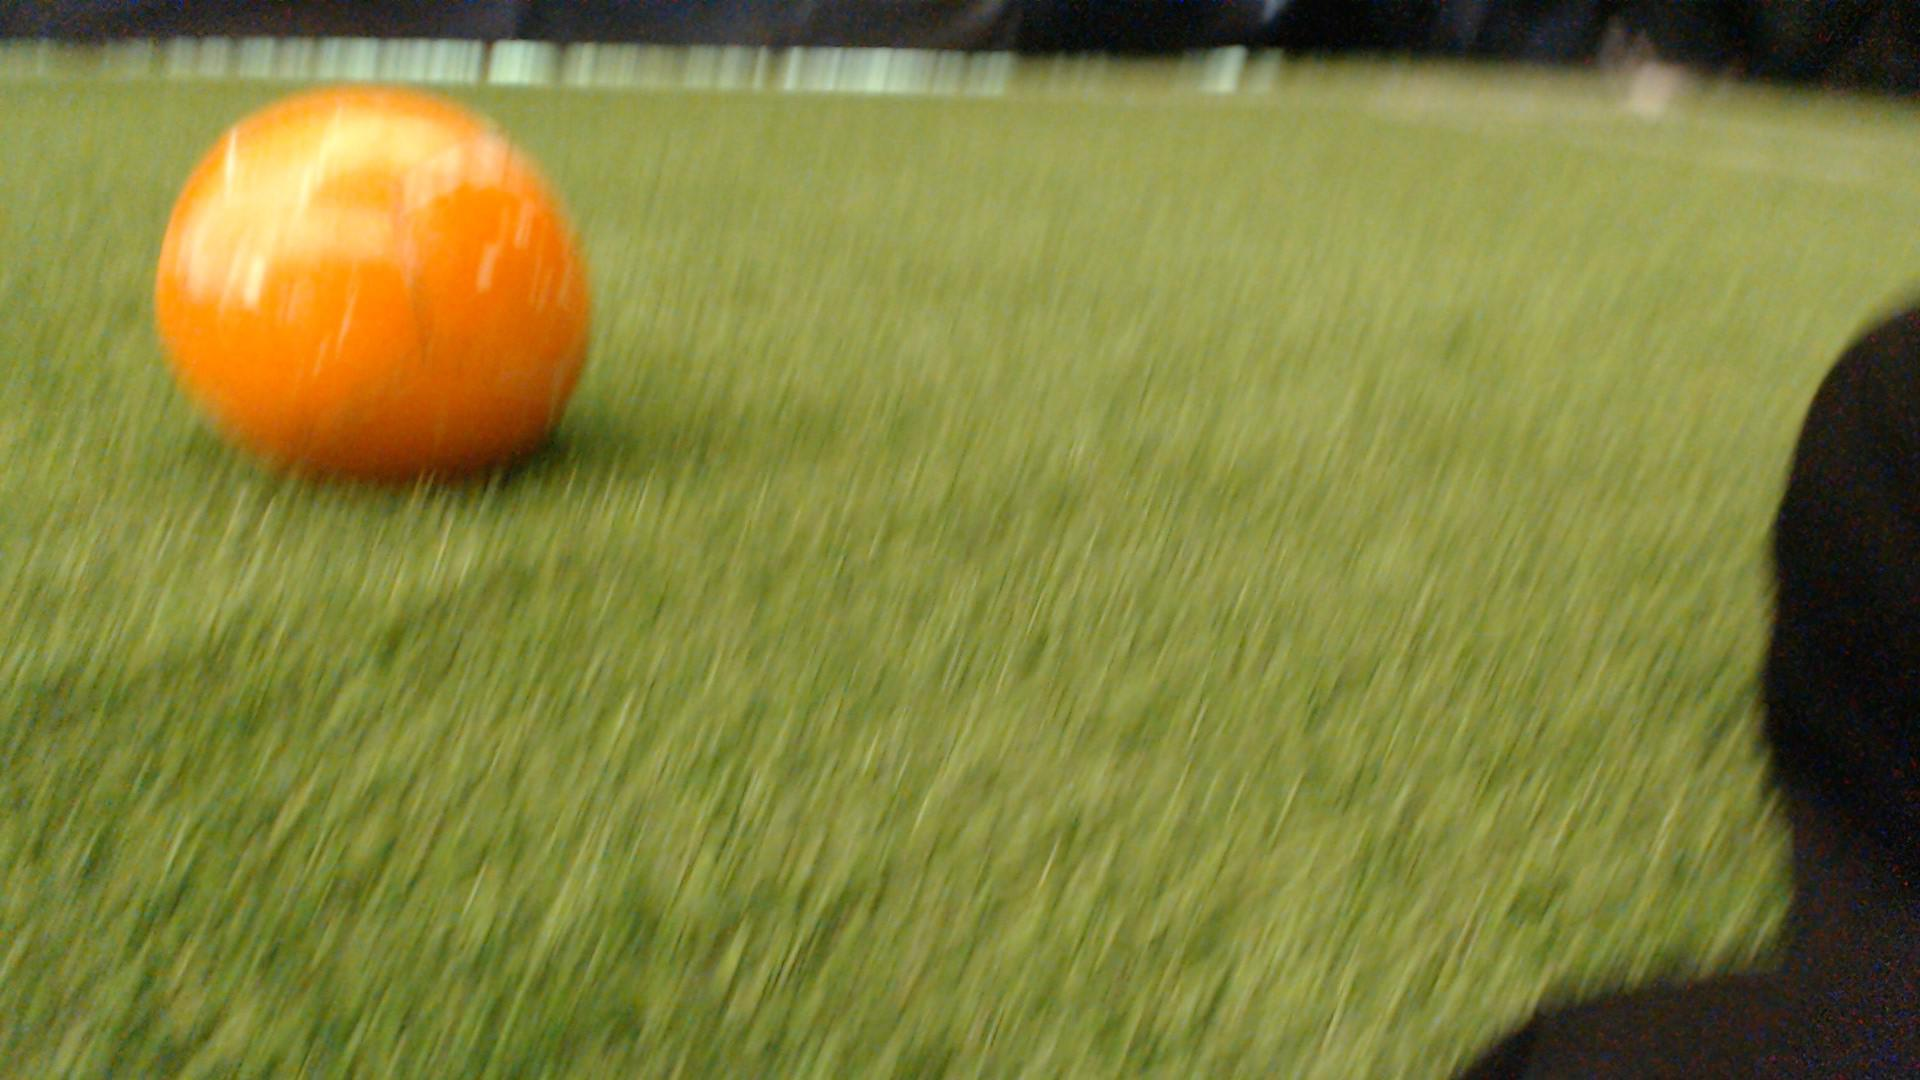bola: (117, 65, 648, 508)
